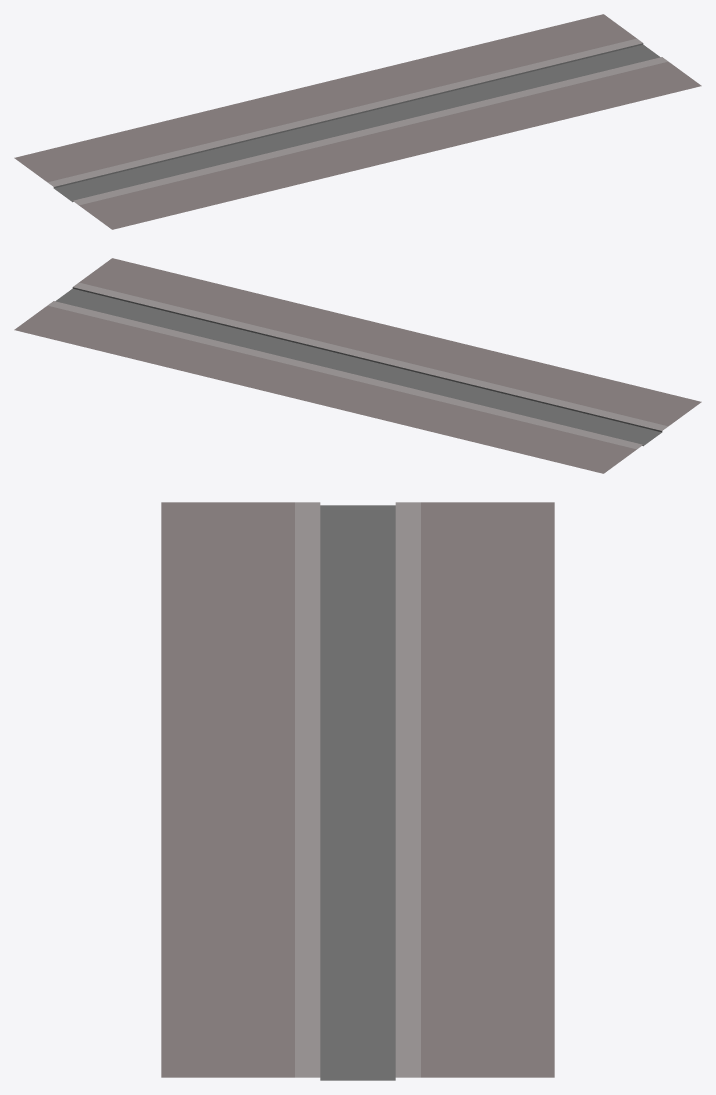
File: Thin road.fbx
3 views of the same model, one above another, from view 1: azimuth 30°, elevation 25°; view 2: azimuth 150°, elevation 25°; view 3: azimuth 270°, elevation 25° (orthographic). The views are drawn at different scales.
Parts seen in each view (by area): view 1: Thin road; view 2: Thin road; view 3: Thin road.
Part boxes in pixels (x1,y1,x2,y2): Thin road: (14, 14, 701, 229); Thin road: (14, 258, 701, 473); Thin road: (161, 502, 554, 1080).
Bounding box in the file's own units: 5413 × 12.65 × 1563.
